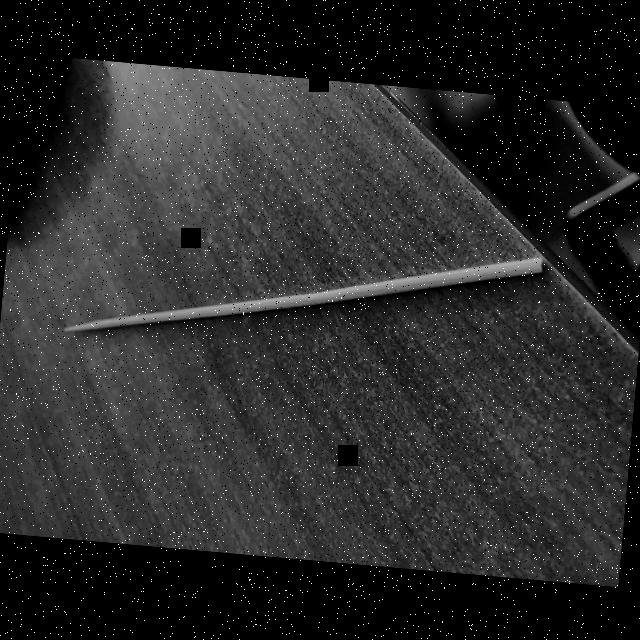stick: (52, 205, 552, 398)
